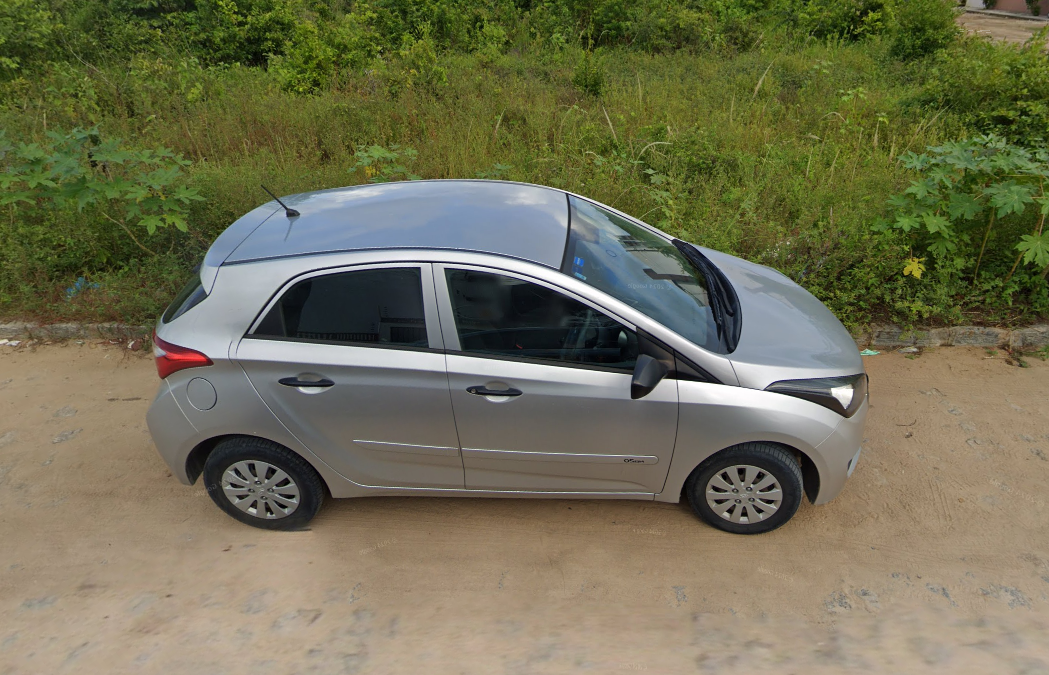car: (138, 165, 875, 561)
